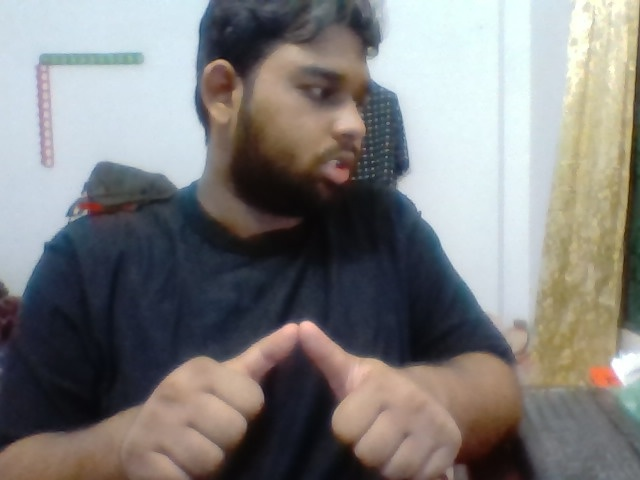A: (122, 294, 475, 480)
